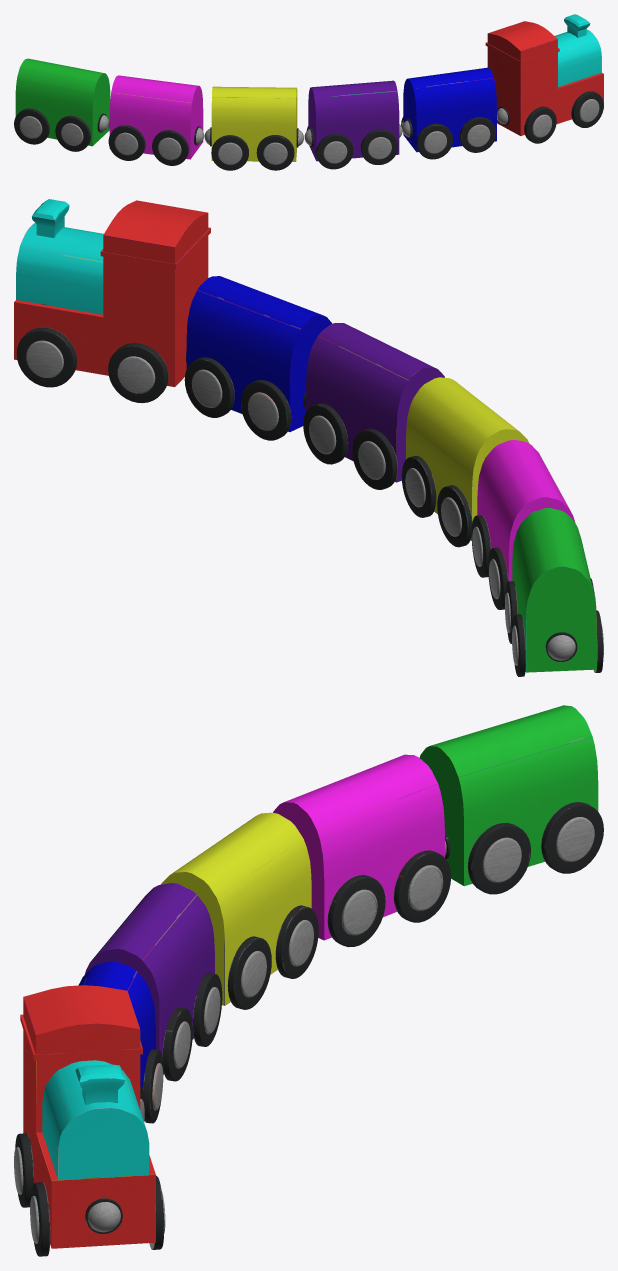
File: train.fbx
3 renders of one model, top to bottom at view 1: azimuth 30°, elevation 25°; view 2: azimuth 150°, elevation 25°; view 3: azimuth 270°, elevation 25°, orthographic. The views are drawn at different scales.
Visible parts, largest first — view 1: Sphere.010; view 2: Sphere.010; view 3: Sphere.010.
Part boxes in pixels (bbox=[...]): Sphere.010: bbox=[14, 14, 603, 170]; Sphere.010: bbox=[14, 199, 603, 676]; Sphere.010: bbox=[14, 705, 603, 1256].
Size of the model in its own units: 444 by 91.5 by 248.
